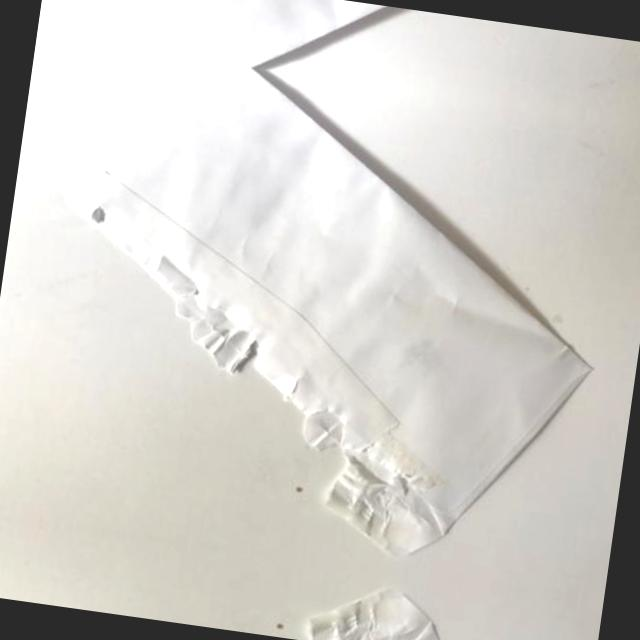paper: (21, 44, 626, 579), (86, 0, 638, 119), (8, 536, 558, 640)
